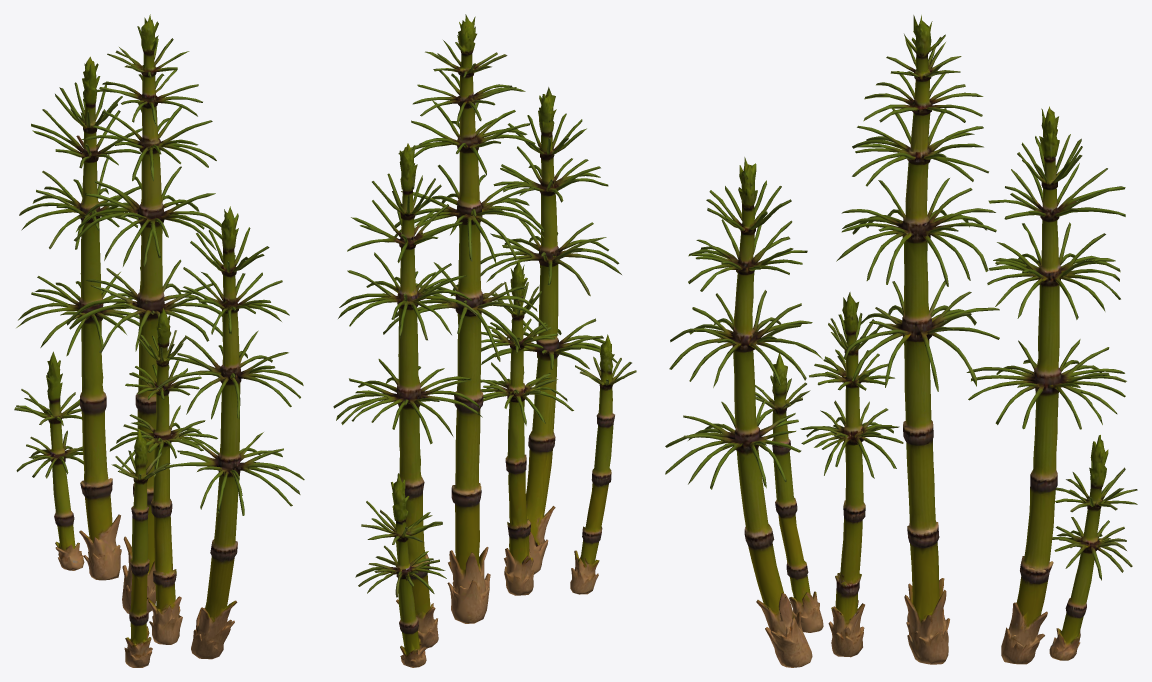
Rendered from neocalamites.raw.glb.
3 renders of one model, left to right at view 1: azimuth 30°, elevation 25°; view 2: azimuth 150°, elevation 25°; view 3: azimuth 270°, elevation 25°, orthographic. The views are drawn at different scales.
Parts seen in each view (by area): view 1: tripo_node_cb7ae60b-c1ec-4772-924e-7ea9e6c444a0; view 2: tripo_node_cb7ae60b-c1ec-4772-924e-7ea9e6c444a0; view 3: tripo_node_cb7ae60b-c1ec-4772-924e-7ea9e6c444a0.
Part boxes in pixels (<box>): tripo_node_cb7ae60b-c1ec-4772-924e-7ea9e6c444a0: <box>14,14,304,667</box>; tripo_node_cb7ae60b-c1ec-4772-924e-7ea9e6c444a0: <box>333,14,636,667</box>; tripo_node_cb7ae60b-c1ec-4772-924e-7ea9e6c444a0: <box>665,15,1137,667</box>.
Bounding box in the file's own units: 0.2945 × 1 × 0.659.
1 material, 1 textured.
